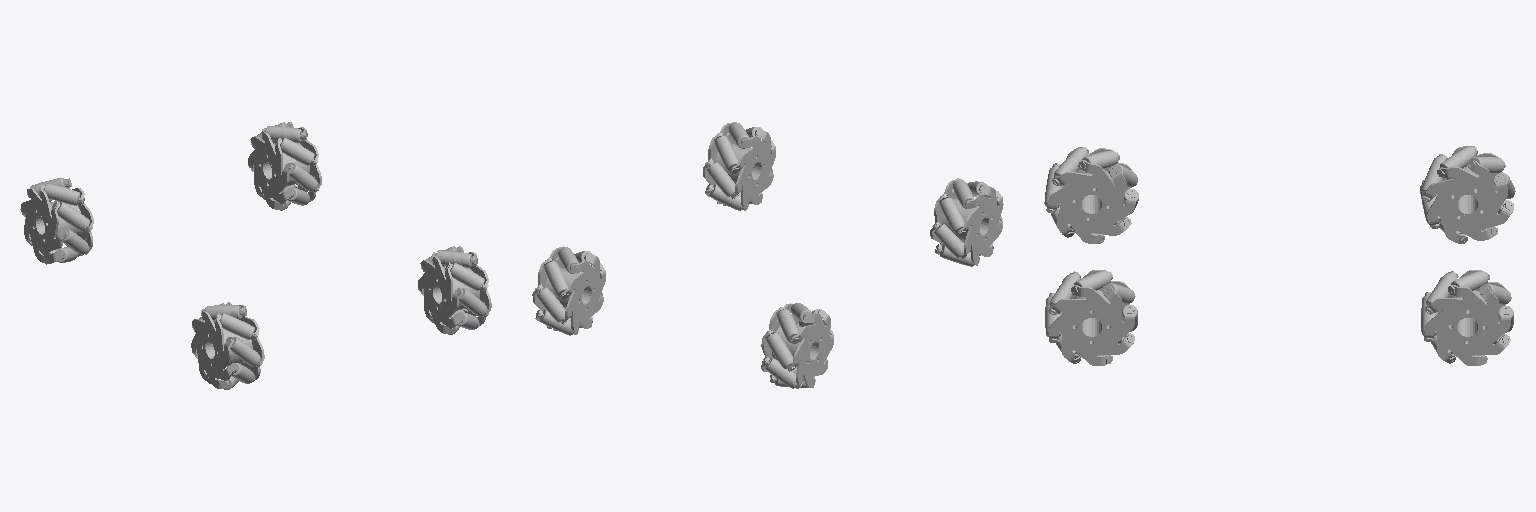
URDF robot description (gagahre123):
<?xml version="1.0" encoding="utf-8"?>
<!-- This URDF was automatically created by SolidWorks to URDF Exporter! Originally created by Stephen Brawner (brawner@gmail.com) 
     Commit Version: 1.6.0-4-g7f85cfe  Build Version: 1.6.7995.38578
     For more information, please see http://wiki.ros.org/sw_urdf_exporter -->
<robot
  name="gagahre123">
  <link
    name="base_link">
    <inertial>
      <origin
        xyz="-4.8343E-05 -0.0037941 0.014802"
        rpy="0 0 0" />
      <mass
        value="5" />
      <inertia
        ixx="0.012716"
        ixy="-5.6161E-06"
        ixz="1.4499E-07"
        iyy="0.004141"
        iyz="-5.0533E-09"
        izz="0.016634" />
    </inertial>
    <visual>
      <origin
        xyz="0 0 0"
        rpy="0 0 0" />
      <geometry>
        <mesh
          filename="package://gagahre123/meshes/base_link.STL" />
      </geometry>
      <material
        name="">
        <color
          rgba="0.79216 0.81961 0.93333 1" />
      </material>
    </visual>
    <collision>
      <origin
        xyz="0 0 0"
        rpy="0 0 0" />
      <geometry>
        <mesh
          filename="package://gagahre123/meshes/base_link.STL" />
      </geometry>
    </collision>
  </link>
  <link
    name="welkananbawah">
    <inertial>
      <origin
        xyz="0.00020378 -2.7334E-08 -9.9536E-08"
        rpy="0 0 0" />
      <mass
        value="0.1728" />
      <inertia
        ixx="6.4174E-05"
        ixy="-2.3204E-18"
        ixz="-8.8446E-18"
        iyy="4.6952E-05"
        iyz="-1.0306E-17"
        izz="4.6952E-05" />
    </inertial>
    <visual>
      <origin
        xyz="0 0 0"
        rpy="0 0 0" />
      <geometry>
        <mesh
          filename="package://gagahre123/meshes/welkananbawah.STL" />
      </geometry>
      <material
        name="">
        <color
          rgba="0.75294 0.75294 0.75294 1" />
      </material>
    </visual>
    <collision>
      <origin
        xyz="0 0 0"
        rpy="0 0 0" />
      <geometry>
        <mesh
          filename="package://gagahre123/meshes/welkananbawah.STL" />
      </geometry>
    </collision>
  </link>
  <joint
    name="rodakananbawah"
    type="continuous">
    <origin
      xyz="-0.15483 0.19987 -0.0044227"
      rpy="1.5708 0 3.1416" />
    <parent
      link="base_link" />
    <child
      link="welkananbawah" />
    <axis
      xyz="-1 0 0" />
    <limit
      effort="100"
      velocity="20" />
    <dynamics
      damping="2"
      friction="0.8" />
  </joint>
  <link
    name="welkananatas">
    <inertial>
      <origin
        xyz="0.00020378 -5.7378E-08 -8.5804E-08"
        rpy="0 0 0" />
      <mass
        value="0.1728" />
      <inertia
        ixx="6.4174E-05"
        ixy="-5.0471E-18"
        ixz="-7.7178E-18"
        iyy="4.6952E-05"
        iyz="2.3447E-18"
        izz="4.6952E-05" />
    </inertial>
    <visual>
      <origin
        xyz="0 0 0"
        rpy="0 0 0" />
      <geometry>
        <mesh
          filename="package://gagahre123/meshes/welkananatas.STL" />
      </geometry>
      <material
        name="">
        <color
          rgba="0.75294 0.75294 0.75294 1" />
      </material>
    </visual>
    <collision>
      <origin
        xyz="0 0 0"
        rpy="0 0 0" />
      <geometry>
        <mesh
          filename="package://gagahre123/meshes/welkananatas.STL" />
      </geometry>
    </collision>
  </link>
  <joint
    name="rodakananatas"
    type="continuous">
    <origin
      xyz="-0.15483 -0.20013 -0.0044227"
      rpy="1.5708 0 3.1416" />
    <parent
      link="base_link" />
    <child
      link="welkananatas" />
    <axis
      xyz="-1 0 0" />
    <limit
      effort="100"
      velocity="20" />
    <dynamics
      damping="2"
      friction="0.8" />
  </joint>
  <link
    name="welkiriatas">
    <inertial>
      <origin
        xyz="0.00020378 7.2868E-08 7.3108E-08"
        rpy="0 0 0" />
      <mass
        value="0.1728" />
      <inertia
        ixx="6.4174E-05"
        ixy="6.426E-18"
        ixz="6.5951E-18"
        iyy="4.6952E-05"
        iyz="9.8403E-18"
        izz="4.6952E-05" />
    </inertial>
    <visual>
      <origin
        xyz="0 0 0"
        rpy="0 0 0" />
      <geometry>
        <mesh
          filename="package://gagahre123/meshes/welkiriatas.STL" />
      </geometry>
      <material
        name="">
        <color
          rgba="0.75294 0.75294 0.75294 1" />
      </material>
    </visual>
    <collision>
      <origin
        xyz="0 0 0"
        rpy="0 0 0" />
      <geometry>
        <mesh
          filename="package://gagahre123/meshes/welkiriatas.STL" />
      </geometry>
    </collision>
  </link>
  <joint
    name="rodakiriatas"
    type="continuous">
    <origin
      xyz="0.15442 -0.20013 -0.0044227"
      rpy="1.5708 0 3.1416" />
    <parent
      link="base_link" />
    <child
      link="welkiriatas" />
    <axis
      xyz="1 0 0" />
    <limit
      effort="100"
      velocity="20" />
    <dynamics
      damping="2"
      friction="0.8" />
  </joint>
  <link
    name="welkiribawah">
    <inertial>
      <origin
        xyz="0.00020378 -7.2988E-08 -7.2988E-08"
        rpy="0 0 0" />
      <mass
        value="0.1728" />
      <inertia
        ixx="6.4174E-05"
        ixy="-6.4014E-18"
        ixz="-6.6006E-18"
        iyy="4.6952E-05"
        iyz="9.9107E-18"
        izz="4.6952E-05" />
    </inertial>
    <visual>
      <origin
        xyz="0 0 0"
        rpy="0 0 0" />
      <geometry>
        <mesh
          filename="package://gagahre123/meshes/welkiribawah.STL" />
      </geometry>
      <material
        name="">
        <color
          rgba="0.75294 0.75294 0.75294 1" />
      </material>
    </visual>
    <collision>
      <origin
        xyz="0 0 0"
        rpy="0 0 0" />
      <geometry>
        <mesh
          filename="package://gagahre123/meshes/welkiribawah.STL" />
      </geometry>
    </collision>
  </link>
  <joint
    name="welkiribawah"
    type="continuous">
    <origin
      xyz="0.15442 0.19987 -0.0044227"
      rpy="1.6003 0 3.1416" />
    <parent
      link="base_link" />
    <child
      link="welkiribawah" />
    <axis
      xyz="1 0 0" />
    <limit
      effort="100"
      velocity="20" />
    <dynamics
      damping="2"
      friction="0.8" />
  </joint>
</robot>

--- What the picture shows (computed from the rendered views, not written in the file) ---
Views: 3 orthographic renders of the robot side by side, from view 1: azimuth 30°, elevation 25°; view 2: azimuth 150°, elevation 25°; view 3: azimuth 270°, elevation 25°.
Robot: gagahre123 — 5 links, 4 joints (4 continuous); root link base_link; default pose: all joints at 0.
Visible links, largest first — view 1: welkananatas, welkiribawah, welkiriatas, welkananbawah; view 2: welkiribawah, welkiriatas, welkananatas, welkananbawah; view 3: welkiriatas, welkananatas, welkananbawah, welkiribawah.
Boxes of the visible links, left/top/right/bottom form: welkananatas: left=191, top=302, right=264, bottom=389; welkiribawah: left=248, top=122, right=321, bottom=210; welkiriatas: left=418, top=246, right=491, bottom=334; welkananbawah: left=20, top=178, right=93, bottom=264; welkiribawah: left=532, top=246, right=605, bottom=335; welkiriatas: left=703, top=122, right=775, bottom=210; welkananatas: left=930, top=178, right=1003, bottom=266; welkananbawah: left=761, top=303, right=833, bottom=388; welkiriatas: left=1045, top=270, right=1137, bottom=365; welkananatas: left=1044, top=147, right=1138, bottom=243; welkananbawah: left=1420, top=146, right=1515, bottom=243; welkiribawah: left=1421, top=270, right=1513, bottom=365.
Bounding box of the posed robot: 0.3565 × 0.5012 × 0.1017 m (x, y, z).
4 mesh visuals loaded from 5 distinct referenced files (4 binary STL); not drawn: 1 (reference not matched to a file when rendering).
